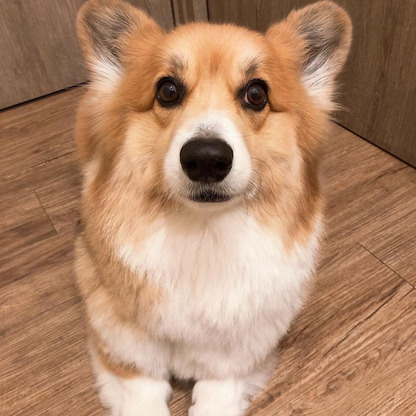Corgi: (69, 16, 348, 402)
